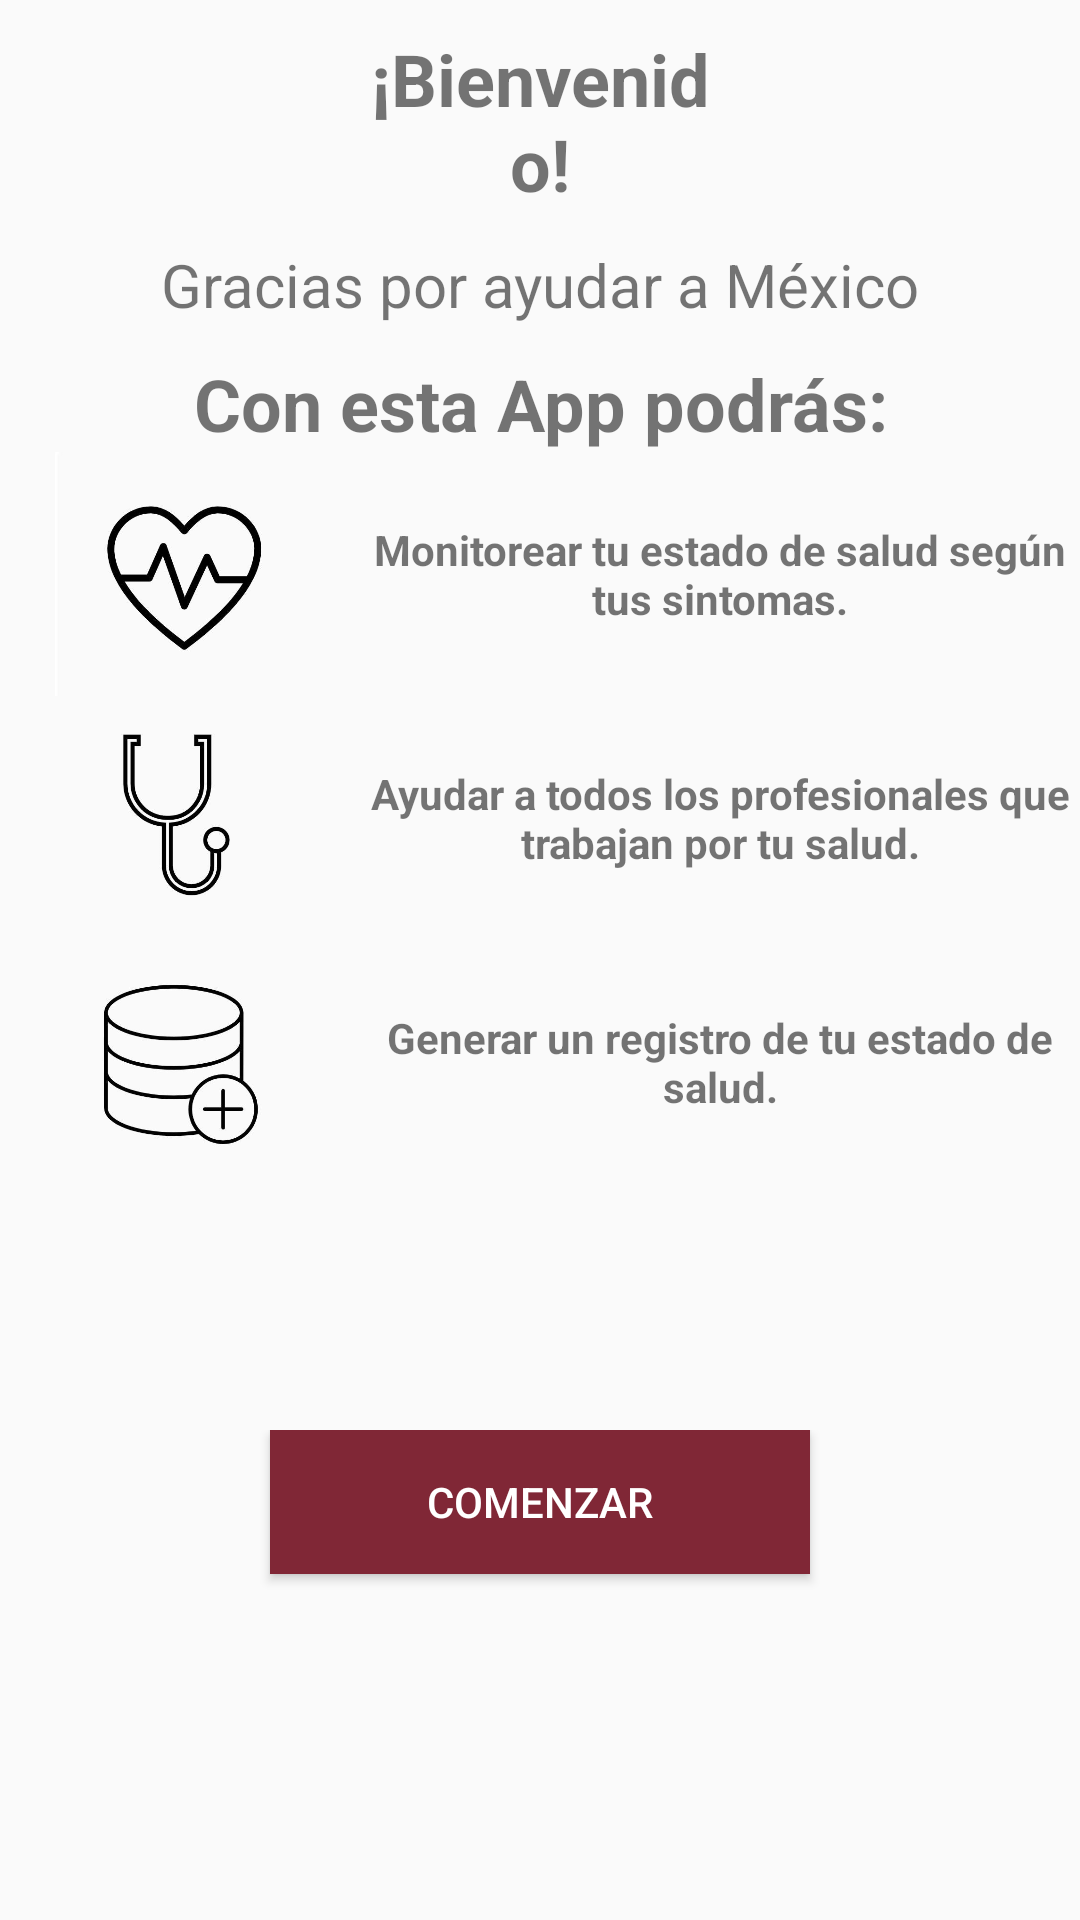

Icons on this 1080w x 1920h Android screen, each with the point to tap as [x,y]:
base: [181,1064]
corazon: [184,578]
estetoscopio: [176,815]
